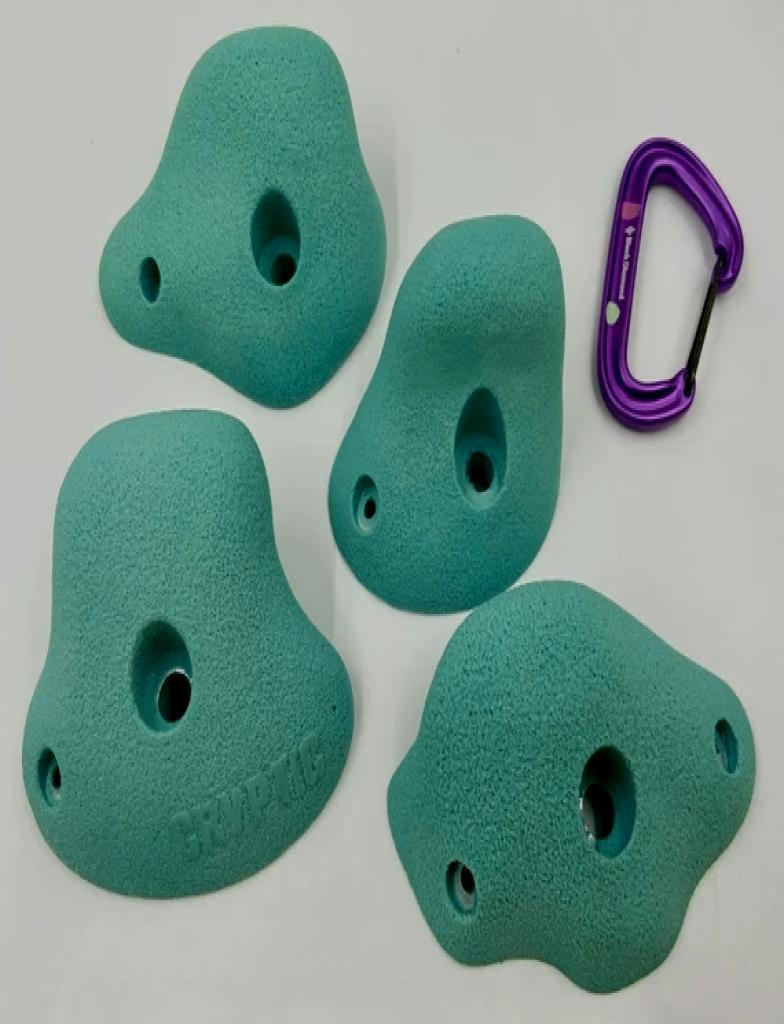jug: (22, 410, 352, 898), (388, 581, 754, 991), (99, 27, 384, 406), (330, 217, 564, 612)
